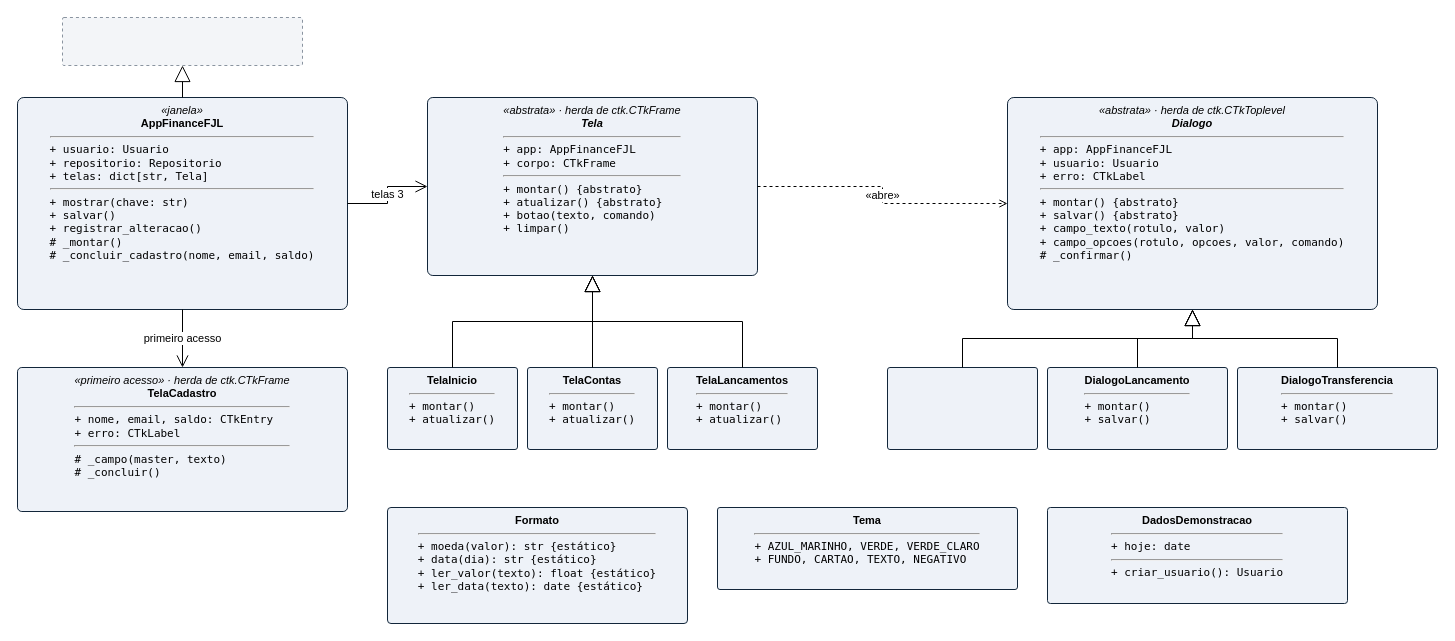
This 1455x641 diagram has some shape labels left out. Each missing label, with the centre of its shape:
DialogoConta + montar() + salvar(): (x=962, y=408)
«biblioteca» customtkinter.CTk: (x=182, y=41)
